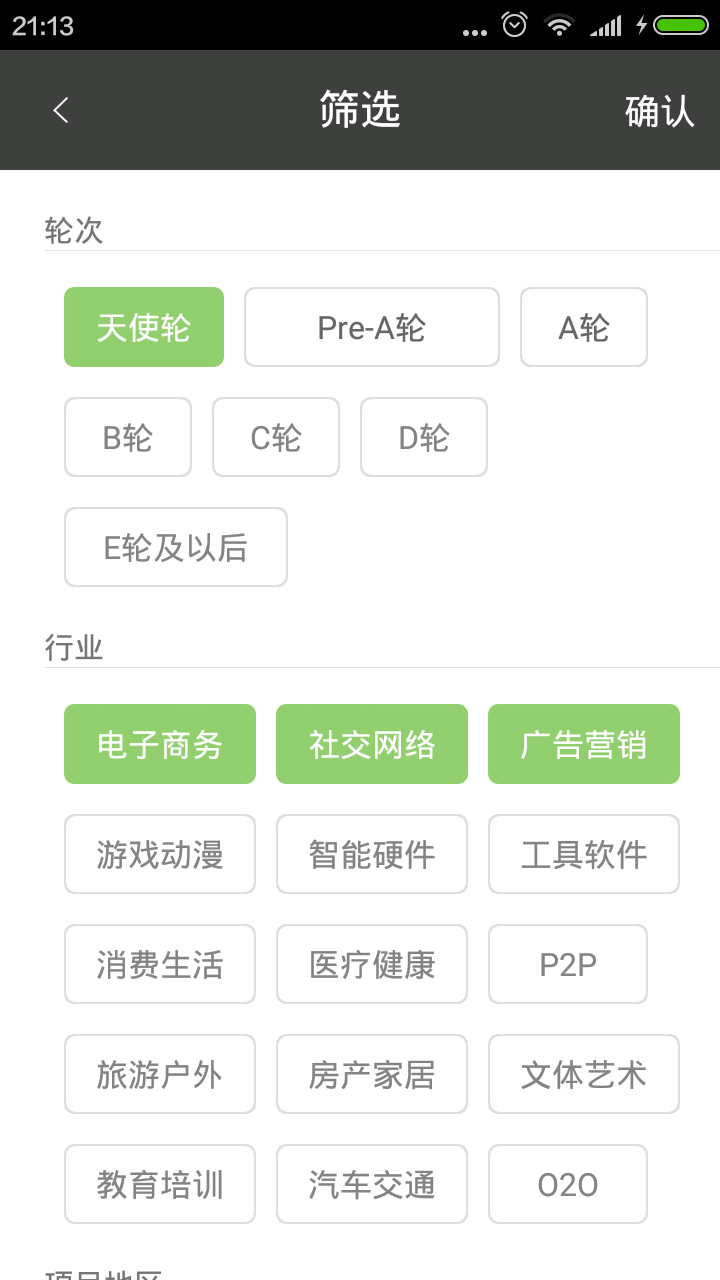button: (57, 687, 265, 798)
